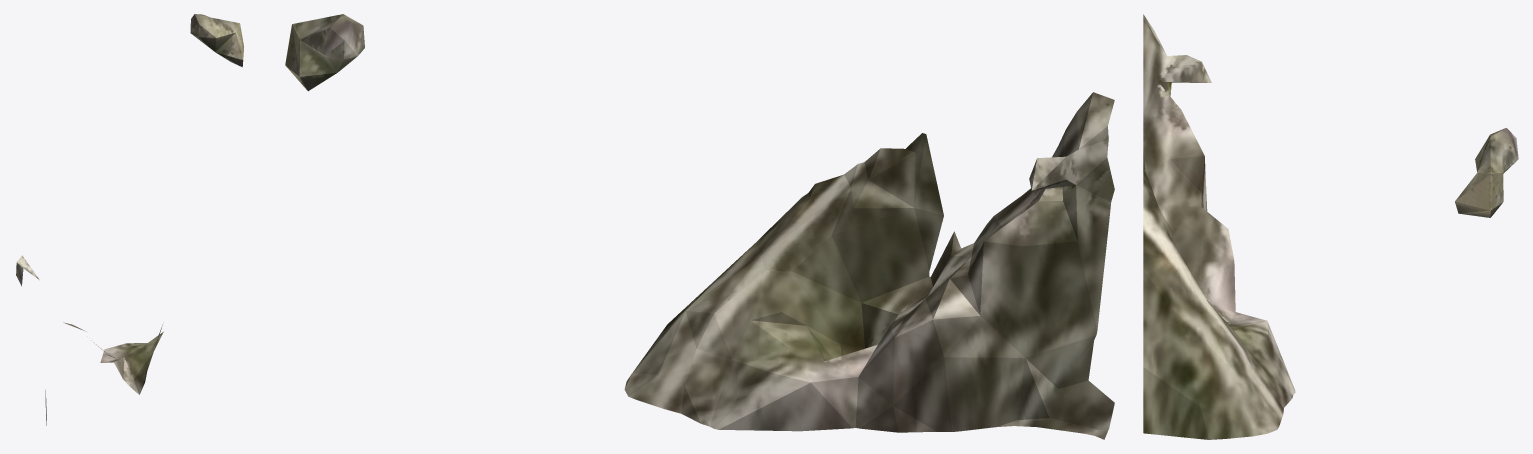
3 views of the same model, side by side, from view 1: azimuth 30°, elevation 25°; view 2: azimuth 150°, elevation 25°; view 3: azimuth 270°, elevation 25° (orthographic). The views are drawn at different scales.
Size of the model in its own units: 2.62 by 1.84 by 1.78.
1 material, 1 textured.
